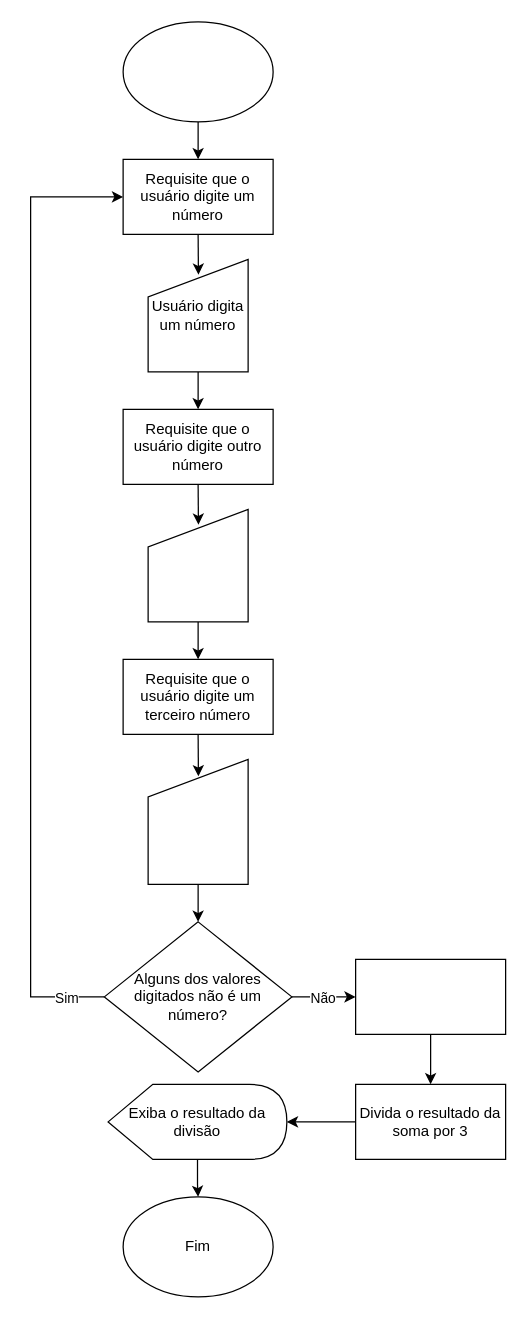
The diagram is 528 pixels wide and 1319 high, and some of its shapes have lost their labels. Here are the shapes that lost their labels. From the top down, the box of each, then its label:
(122, 21, 273, 122): Início
(147, 508, 248, 622): Usuário digita outro número
(147, 758, 248, 884): Usuário digita um terceiro número
(354, 958, 506, 1034): Some os 3 valores digitados
